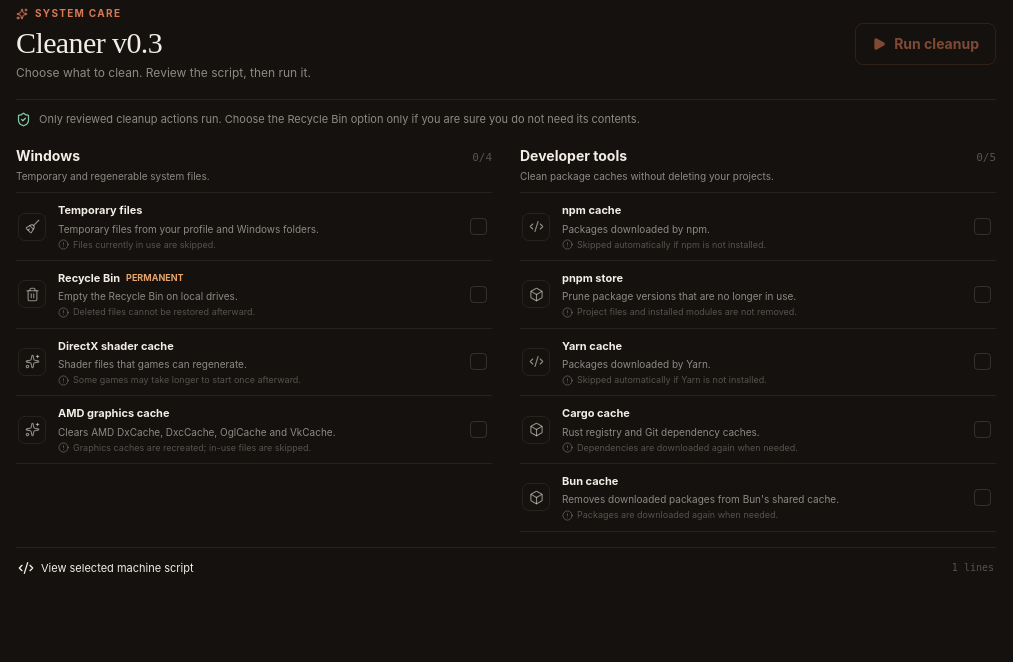
it: CleanerPage › runs only the selected task and shows the completed status
Step 1. Click the button "Temporary files" → (254, 227), box [16,193,492,261]
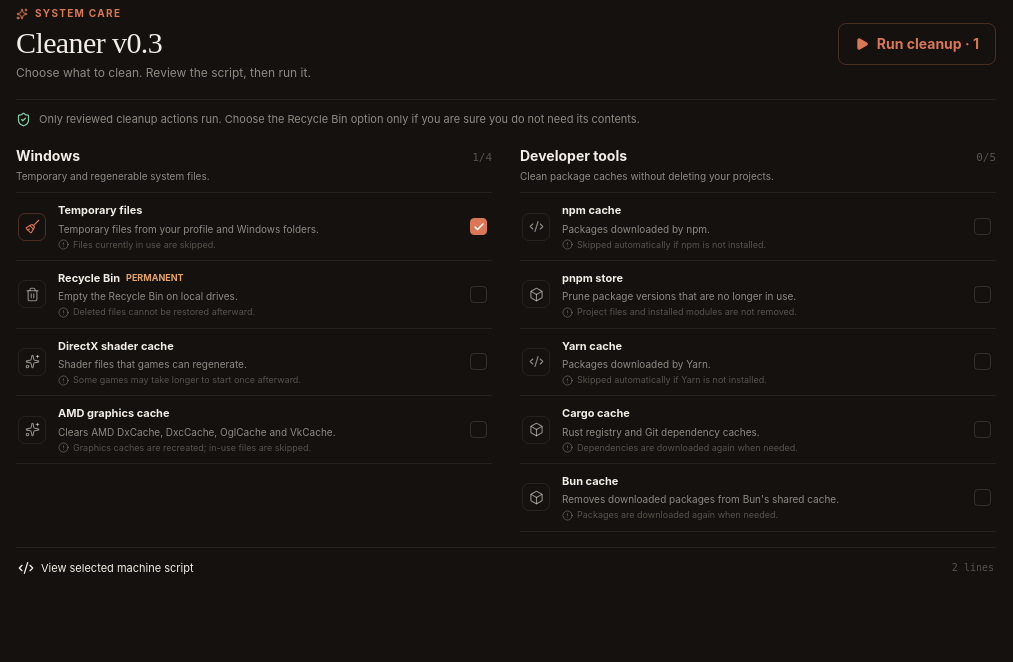
Step 2. Click the button "Run cleanup · 1" → (917, 44), box [838,23,996,65]
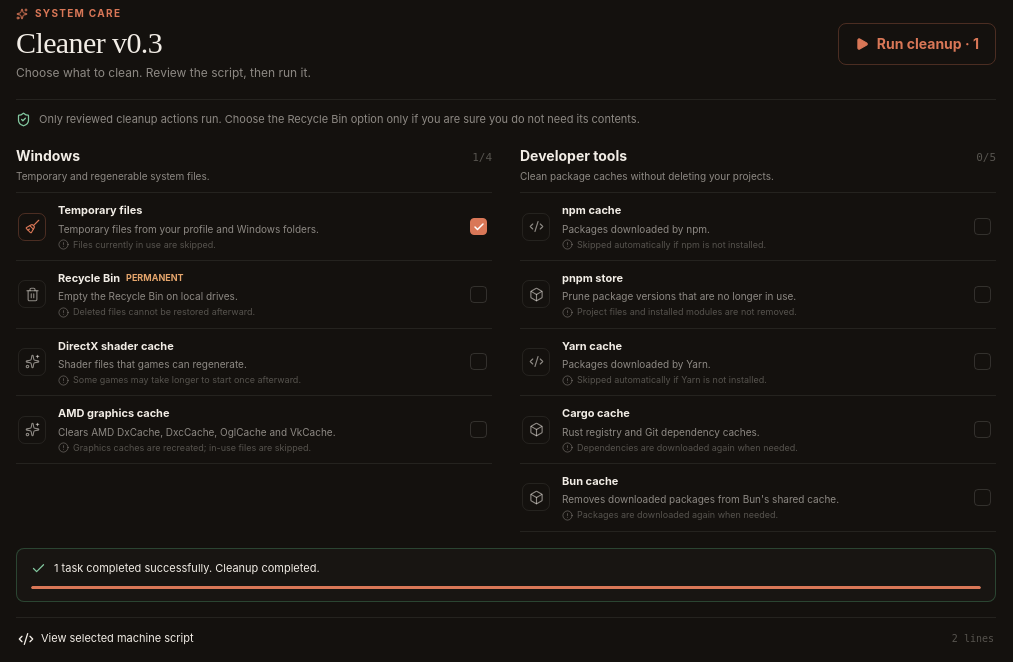
Expected: the message reads "1 task completed successfully. Cleanup completed.", [54,560,320,574]
